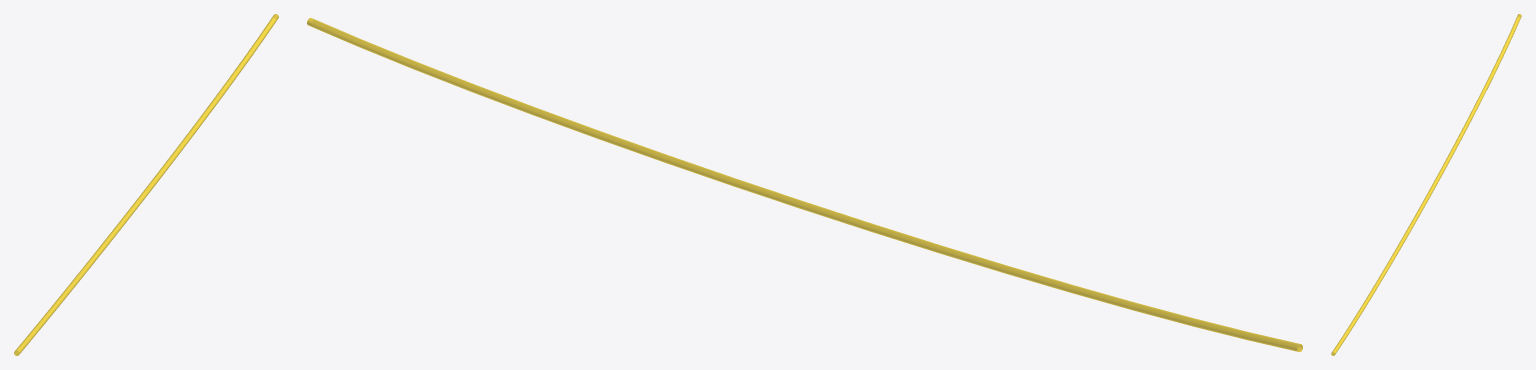
Rendered from Event_15818458_track_12.fbx.
3 views of the same model, side by side, from view 1: azimuth 90°, elevation 25°; view 2: azimuth 150°, elevation 25°; view 3: azimuth 270°, elevation 25° (orthographic). The views are drawn at different scales.
Parts seen in each view (by area): view 1: Model; view 2: Model; view 3: Model.
Part boxes in pixels (left/top/right/bottom): Model: left=14, top=14, right=278, bottom=355; Model: left=307, top=18, right=1302, bottom=351; Model: left=1331, top=14, right=1521, bottom=355.
Size of the model in its own units: 6.61 by 0.5499 by 1.83.
